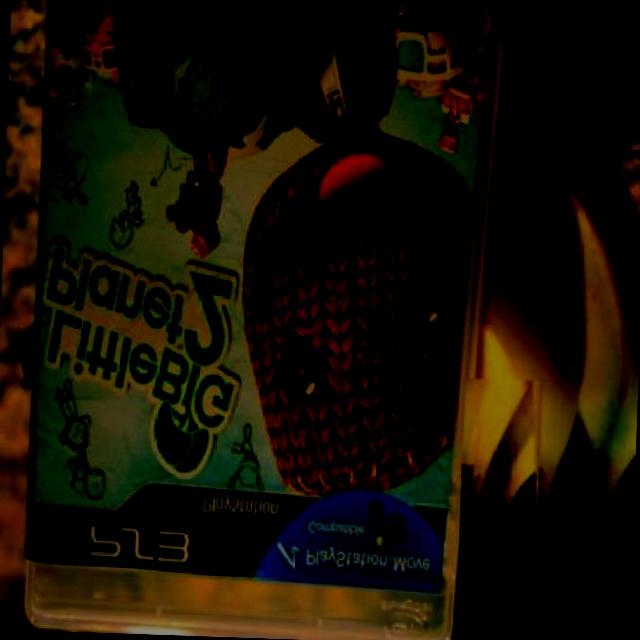Banana: (454, 72, 640, 632)
